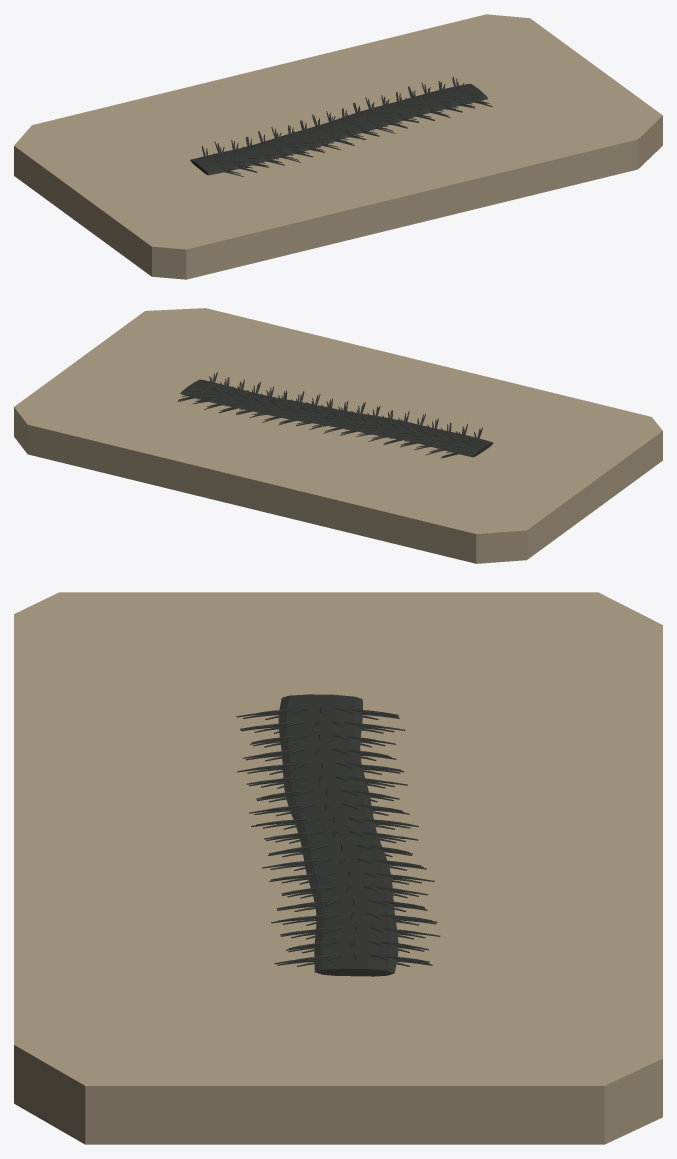
3 renders of one model, top to bottom at view 1: azimuth 30°, elevation 25°; view 2: azimuth 150°, elevation 25°; view 3: azimuth 270°, elevation 25°, orthographic. The views are drawn at different scales.
Visible parts, largest first — view 1: original-matrix, single-undivided-partial-axis, discrete-unbranched-radial-whorls; view 2: original-matrix, single-undivided-partial-axis, discrete-unbranched-radial-whorls; view 3: original-matrix, single-undivided-partial-axis, discrete-unbranched-radial-whorls.
Part boxes in pixels (box(x1,y1,x2,y2)): original-matrix: box(14, 14, 662, 279); single-undivided-partial-axis: box(190, 83, 488, 175); discrete-unbranched-radial-whorls: box(201, 76, 492, 176); original-matrix: box(14, 308, 662, 563); single-undivided-partial-axis: box(180, 379, 493, 457); discrete-unbranched-radial-whorls: box(177, 372, 482, 458); original-matrix: box(14, 592, 662, 1144); single-undivided-partial-axis: box(278, 694, 398, 976); discrete-unbranched-radial-whorls: box(236, 707, 440, 966).
Size of the model in its own units: 0.18 by 0.0118 by 0.1.
